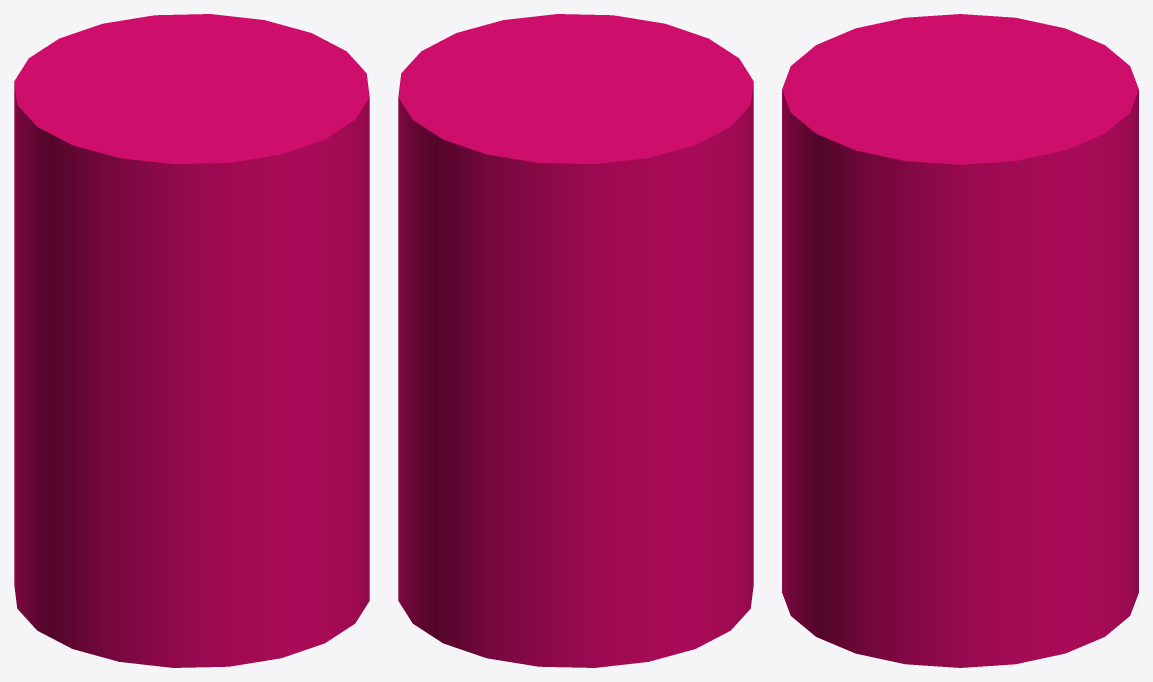
The model's file is Oil_Tank_01_Lod1.fbx.
The picture shows the model from 3 angles, left to right: view 1: azimuth 30°, elevation 25°; view 2: azimuth 150°, elevation 25°; view 3: azimuth 270°, elevation 25°; orthographic projection.
Parts seen in each view (by area): view 1: Oil_Tank_01_Lod1; view 2: Oil_Tank_01_Lod1; view 3: Oil_Tank_01_Lod1.
Boxes of the visible parts, <box> form: Oil_Tank_01_Lod1: <box>14,14,369,667</box>; Oil_Tank_01_Lod1: <box>398,14,753,667</box>; Oil_Tank_01_Lod1: <box>782,14,1138,667</box>.
Bounding box in the file's own units: 62.49 × 97.21 × 62.49.
